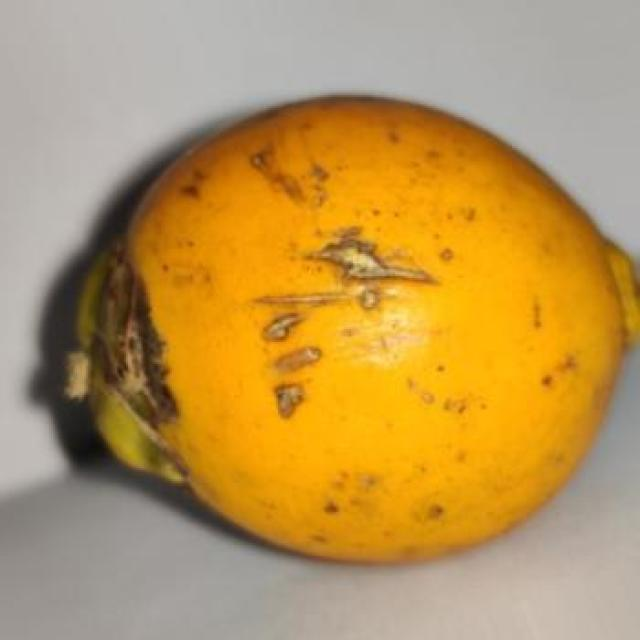good: (40, 95, 638, 569)
